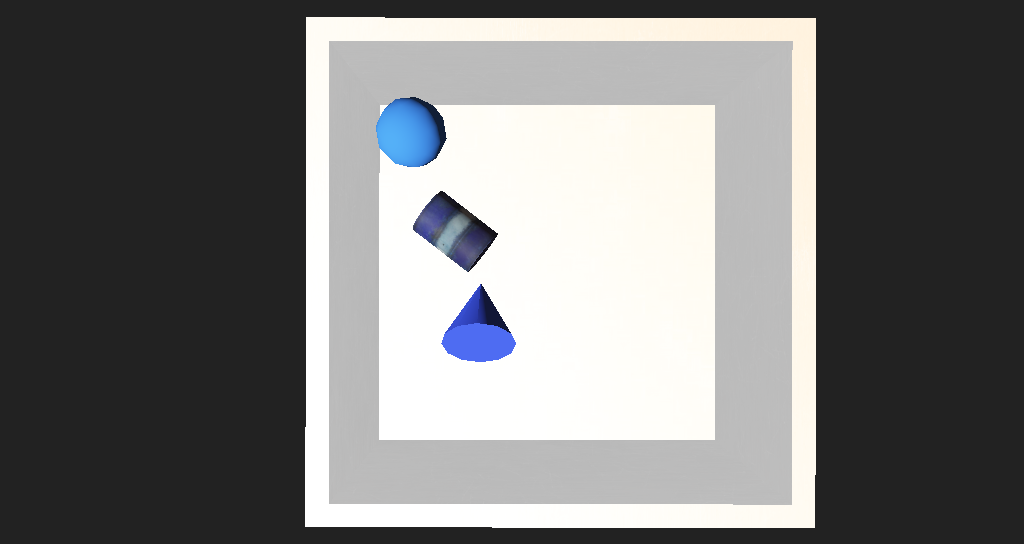cone: (381, 217, 468, 270)
cylinder: (404, 262, 472, 329)
sphere: (354, 160, 414, 203)
